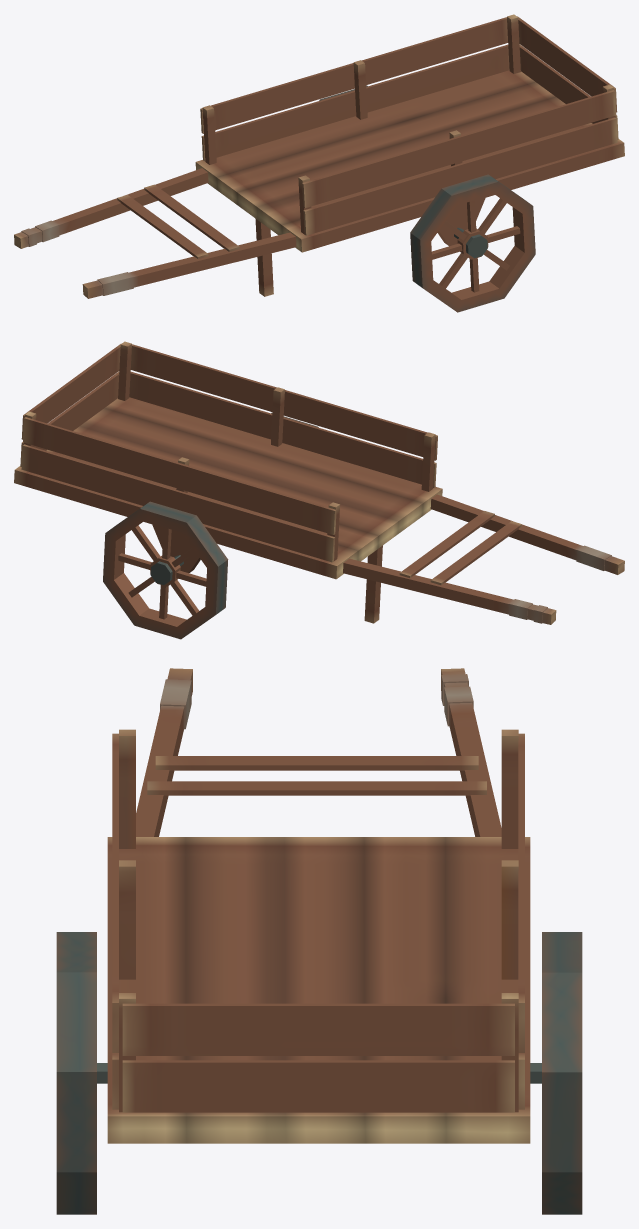
The model's file is kit-handcart.glb.
The picture shows the model from 3 angles, top to bottom: view 1: azimuth 30°, elevation 25°; view 2: azimuth 150°, elevation 25°; view 3: azimuth 270°, elevation 25°; orthographic projection. The views are drawn at different scales.
Parts seen in each view (by area): view 1: Cube.326; view 2: Cube.326; view 3: Cube.326.
Part boxes in pixels (box(x1,y1,x2,y2)): Cube.326: box(14, 14, 624, 312); Cube.326: box(14, 341, 624, 639); Cube.326: box(56, 668, 582, 1214).
Size of the model in its own units: 2.73 by 0.8597 by 1.19.
1 material, 1 textured.
